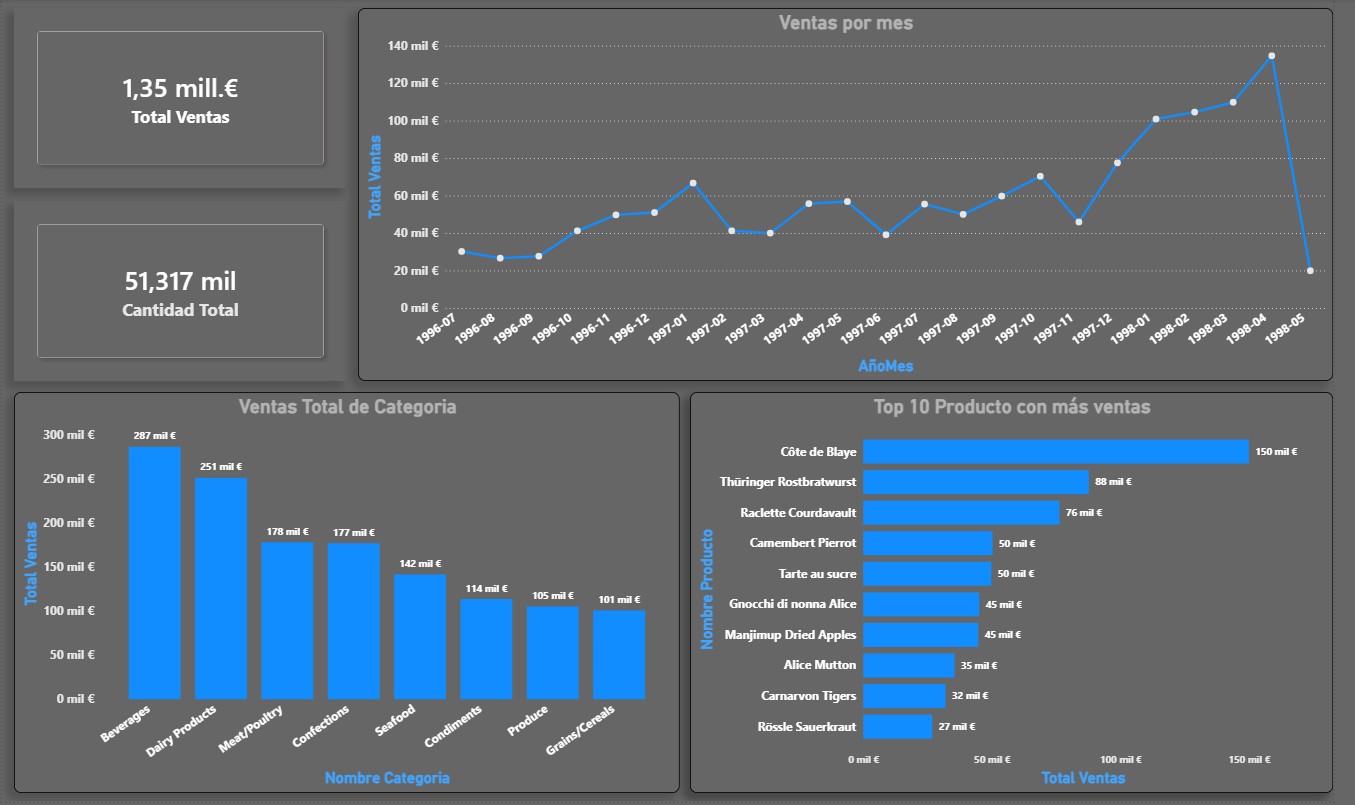

This screenshot's page, from the dashboard's own definition file:
{"tool":"powerbi","page":{"name":"Página 1","canvas":[1660,1000],"ordinal":0},"visuals":[{"type":"lineChart","title":"Ventas por mes","fields":{"Y":["DetalleOrden.TotalVentas"],"Category":["Calendario.AñoMes"]},"box":[443.9,11.2,1215.7,465.1],"z":0},{"type":"barChart","title":"Top 10 Producto con más ventas","fields":{"Category":["Producto.nombre"],"Y":["DetalleOrden.TotalVentas"]},"box":[857.9,490,801.7,500],"z":1000},{"type":"columnChart","title":"Ventas Total de Categoria ","fields":{"Category":["Categoria.nombre"],"Y":["DetalleOrden.TotalVentas"]},"box":[15,490,830.4,500],"z":2000},{"type":"cardVisual","fields":{"Data":["DetalleOrden.TotalVentas"]},"box":[15,11.2,415.2,224.4],"z":3000},{"type":"cardVisual","fields":{"Data":["DetalleOrden.TotalCantidad"]},"box":[15,251.9,415.2,224.4],"z":4000}]}

Visuals, with their boxes in screenshot pixels (x1, y1, x2, y2), scaled from the page's 1660x1000 canvas onto the 1355x805 screenshot:
"Ventas por mes" lineChart: l=362, t=9, r=1354, b=383
"Top 10 Producto con más ventas" barChart: l=700, t=394, r=1354, b=797
"Ventas Total de Categoria " columnChart: l=12, t=394, r=690, b=797
cardVisual - DetalleOrden.TotalVentas: l=12, t=9, r=351, b=190
cardVisual - DetalleOrden.TotalCantidad: l=12, t=203, r=351, b=383
